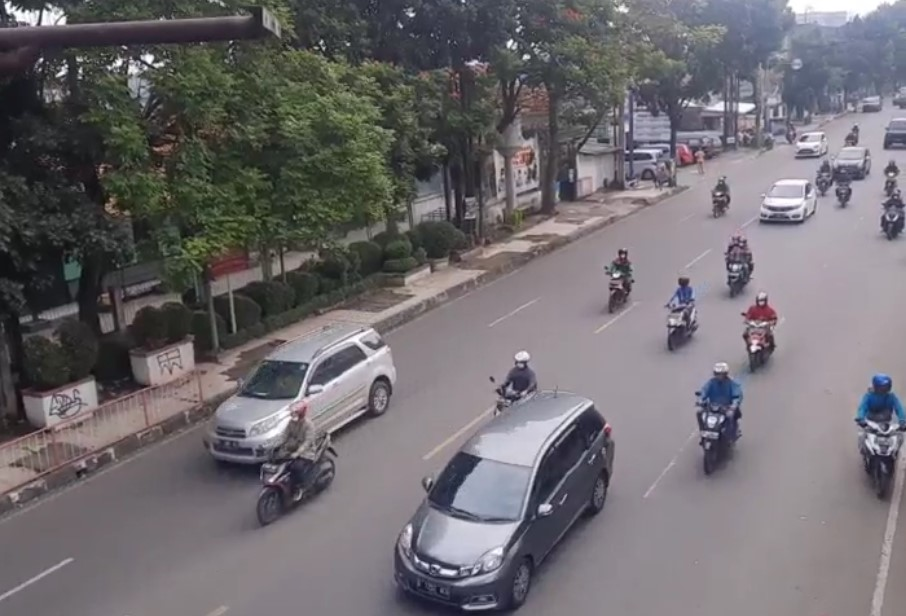motor: (255, 414, 345, 526), (841, 375, 904, 499), (685, 362, 747, 477), (738, 300, 784, 384), (658, 272, 706, 349), (593, 248, 643, 320), (716, 234, 756, 297)
